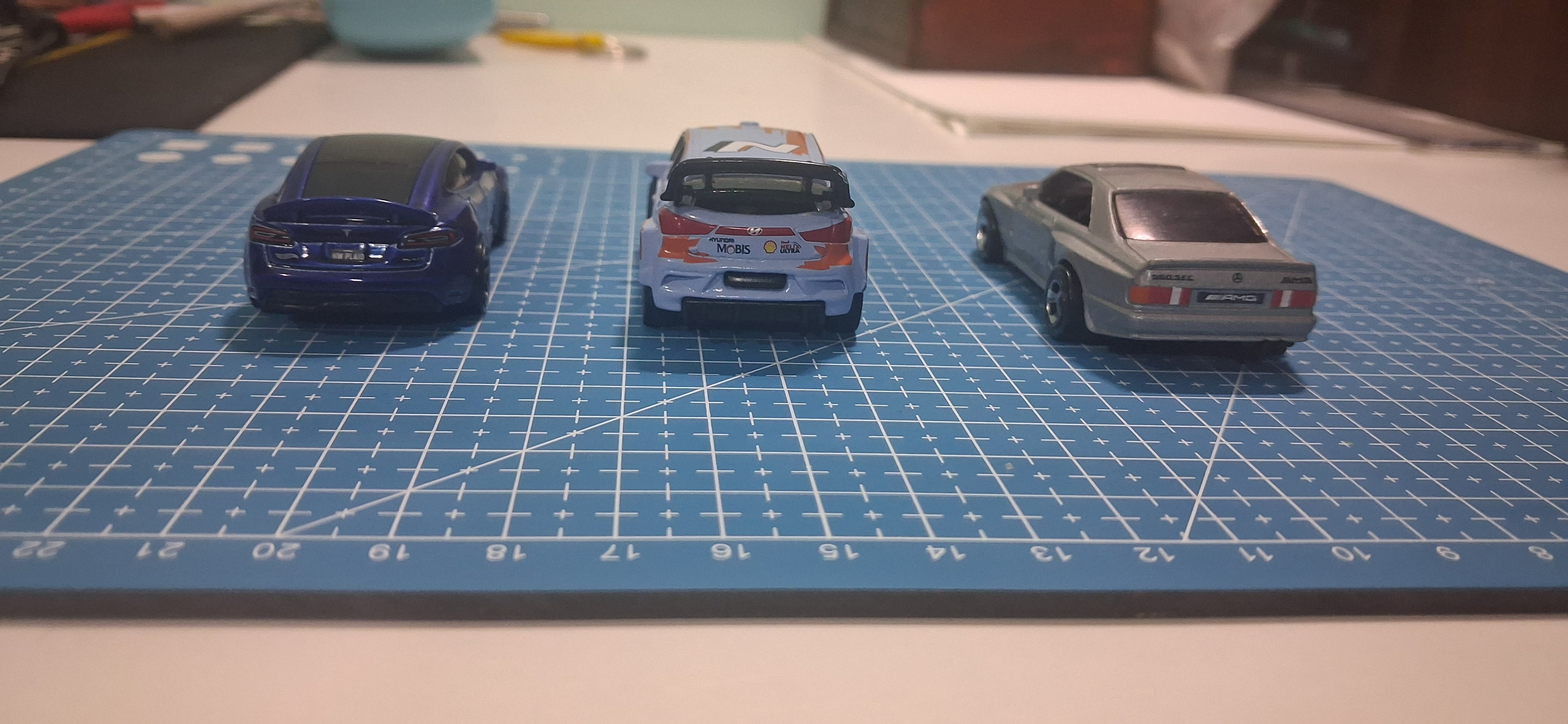Hyundai_I20_WRC: (602, 113, 894, 366)
Mercedes_Benz_560_SEC_AMG: (948, 164, 1348, 393)
Tesla_Model_S_Plaid: (195, 102, 535, 349)
